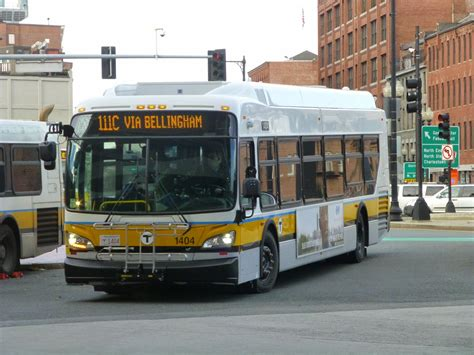bus: (65, 81, 387, 291)
